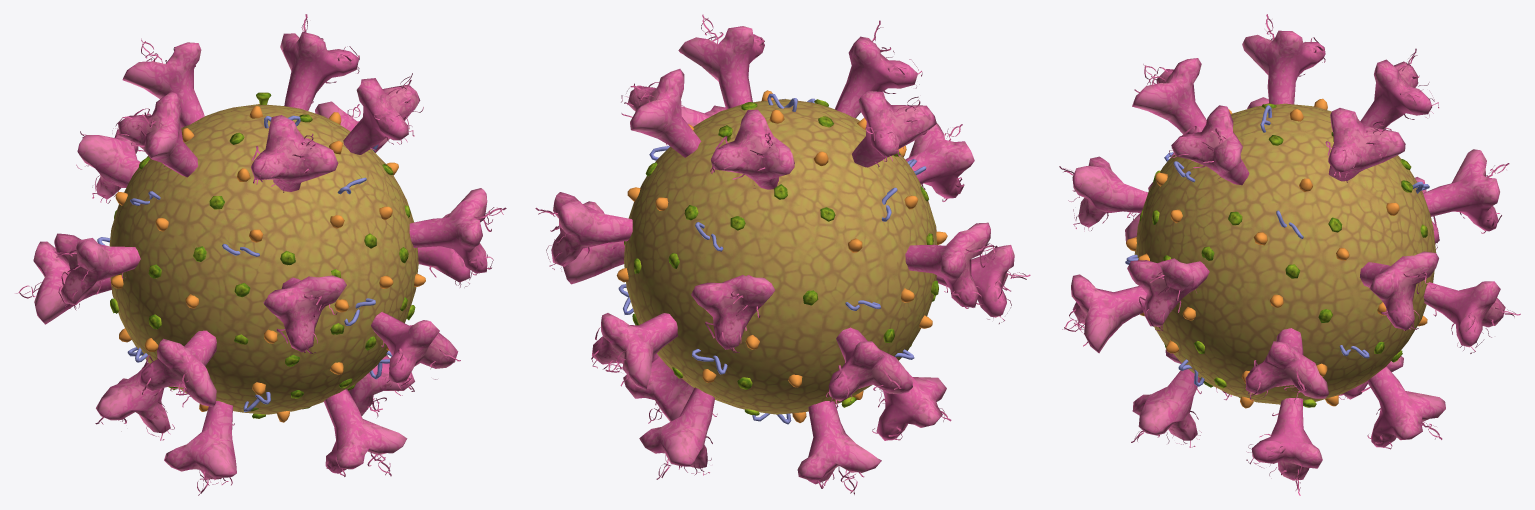
The model's file is coronavirus-v1.glb.
3 views of the same model, side by side, from view 1: azimuth 30°, elevation 25°; view 2: azimuth 150°, elevation 25°; view 3: azimuth 270°, elevation 25° (orthographic). The views are drawn at different scales.
Parts seen in each view (by area): view 1: Envelope-low, Spike Glycoprotein (S).018, Spike Glycoprotein (S).009, Spike Glycoprotein (S).002, Spike Glycoprotein (S).012, Spike Glycoprotein (S).021, Spike Glycoprotein (S).017, Spike Glycoprotein (S).013, Spike Glycoprotein (S).014, Spike Glycoprotein (S).008, Spike Glycoprotein (S).019, Spike Glycoprotein (S).004 (+7 smaller); view 2: Envelope-low, Spike Glycoprotein (S).011, Spike Glycoprotein (S).017, Spike Glycoprotein (S).020, Spike Glycoprotein (S).019, Spike Glycoprotein (S).005, Spike Glycoprotein (S).014, Spike Glycoprotein (S).021, Spike Glycoprotein (S).010, Spike Glycoprotein (S).015, Spike Glycoprotein (S).016, Spike Glycoprotein (S).006 (+6 smaller); view 3: Envelope-low, Spike Glycoprotein (S).021, Spike Glycoprotein (S).006, Spike Glycoprotein (S).015, Spike Glycoprotein (S).019, Spike Glycoprotein (S).008, Spike Glycoprotein (S).007, Spike Glycoprotein (S).016, Spike Glycoprotein (S).018, Spike Glycoprotein (S).011, Spike Glycoprotein (S).003, Spike Glycoprotein (S).012 (+4 smaller).
Part boxes in pixels (x1,y1,x2,y2): Envelope-low: [109, 104, 418, 414]; Spike Glycoprotein (S).018: [251, 115, 338, 192]; Spike Glycoprotein (S).009: [139, 330, 216, 407]; Spike Glycoprotein (S).002: [323, 389, 407, 476]; Spike Glycoprotein (S).012: [409, 188, 506, 275]; Spike Glycoprotein (S).021: [280, 14, 359, 110]; Spike Glycoprotein (S).017: [343, 73, 423, 154]; Spike Glycoprotein (S).013: [263, 275, 346, 353]; Spike Glycoprotein (S).014: [54, 233, 140, 310]; Spike Glycoprotein (S).008: [371, 312, 460, 391]; Spike Glycoprotein (S).019: [112, 91, 197, 177]; Spike Glycoprotein (S).004: [164, 401, 236, 495]; Envelope-low: [624, 99, 937, 414]; Spike Glycoprotein (S).011: [591, 313, 677, 389]; Spike Glycoprotein (S).017: [678, 14, 764, 109]; Spike Glycoprotein (S).020: [710, 109, 794, 189]; Spike Glycoprotein (S).019: [852, 90, 936, 167]; Spike Glycoprotein (S).005: [797, 401, 881, 494]; Spike Glycoprotein (S).014: [905, 222, 997, 308]; Spike Glycoprotein (S).021: [621, 69, 701, 157]; Spike Glycoprotein (S).010: [826, 327, 912, 408]; Spike Glycoprotein (S).015: [691, 275, 774, 353]; Spike Glycoprotein (S).016: [535, 192, 632, 271]; Spike Glycoprotein (S).006: [639, 387, 717, 479]; Envelope-low: [1134, 103, 1436, 404]; Spike Glycoprotein (S).021: [1325, 108, 1405, 182]; Spike Glycoprotein (S).006: [1367, 366, 1445, 449]; Spike Glycoprotein (S).015: [1423, 149, 1509, 233]; Spike Glycoprotein (S).019: [1242, 14, 1325, 104]; Spike Glycoprotein (S).008: [1062, 274, 1146, 353]; Spike Glycoprotein (S).007: [1245, 328, 1328, 404]; Spike Glycoprotein (S).016: [1360, 251, 1438, 330]; Spike Glycoprotein (S).018: [1132, 58, 1206, 134]; Spike Glycoprotein (S).011: [1423, 281, 1520, 353]; Spike Glycoprotein (S).003: [1246, 398, 1322, 495]; Spike Glycoprotein (S).012: [1127, 258, 1209, 331].
Size of the model in its own units: 2.72 by 2.27 by 2.62.
1 material, 1 textured.
